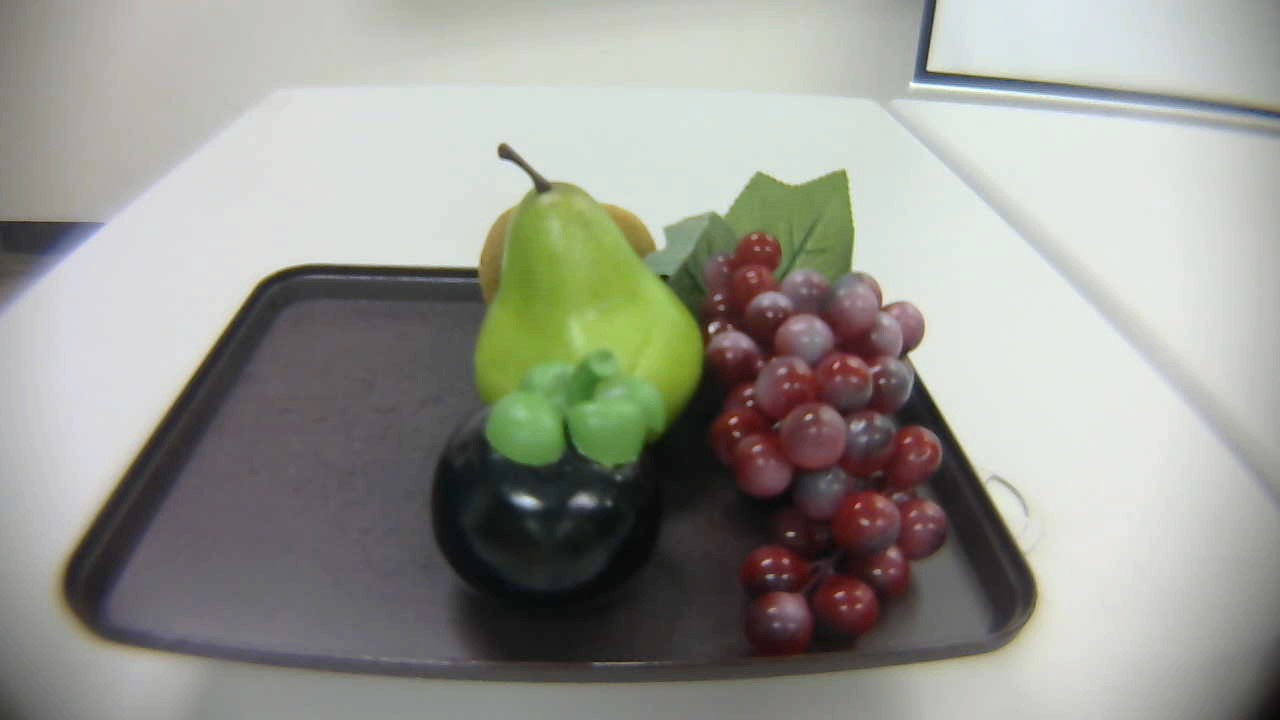grape: (642, 163, 950, 653)
green pear: (477, 141, 710, 461)
kiwi fruit: (467, 188, 682, 323)
mangosteen: (422, 352, 686, 611)
